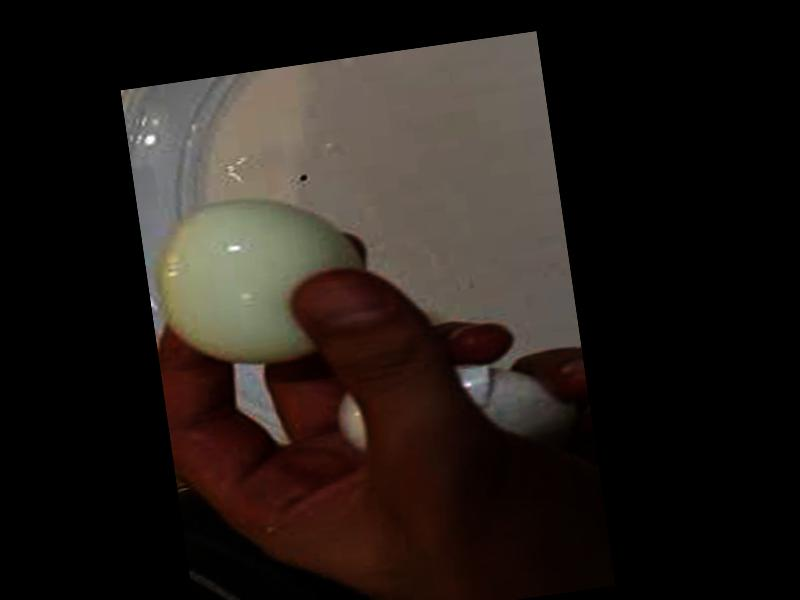Eggs: (141, 187, 378, 378)
